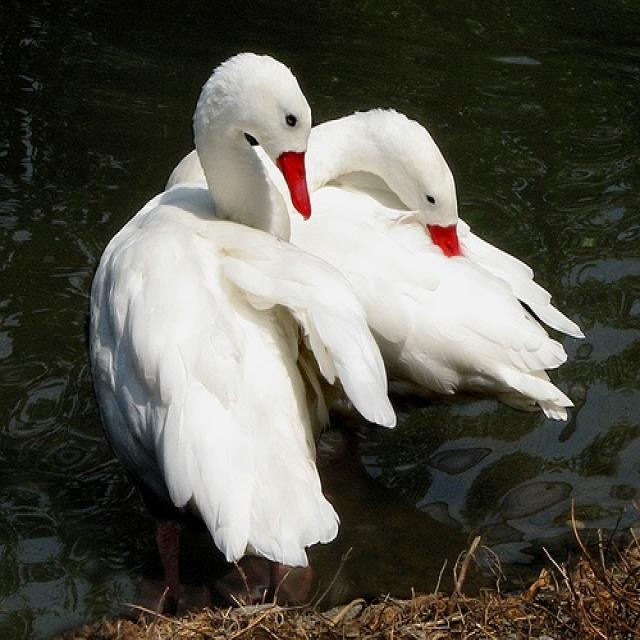bird: (88, 53, 398, 566), (165, 110, 585, 420)
